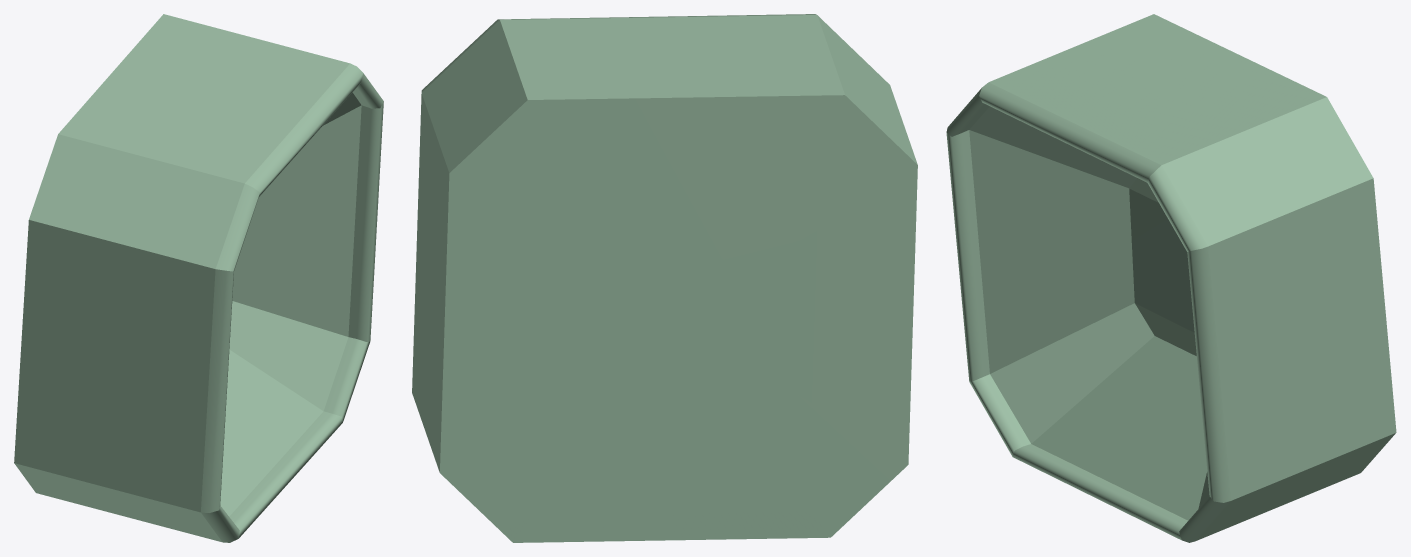
Rendered from BR3_8shapes_Square_Classic_Metal.001 2.glb.
3 renders of one model, left to right at view 1: azimuth 30°, elevation 25°; view 2: azimuth 150°, elevation 25°; view 3: azimuth 270°, elevation 25°, orthographic. The views are drawn at different scales.
Parts seen in each view (by area): view 1: BR3_8shapes_Square_Classic_Metal.001; view 2: BR3_8shapes_Square_Classic_Metal.001; view 3: BR3_8shapes_Square_Classic_Metal.001.
Part boxes in pixels (x1,y1,x2,y2): BR3_8shapes_Square_Classic_Metal.001: (14, 14, 383, 542); BR3_8shapes_Square_Classic_Metal.001: (412, 14, 917, 542); BR3_8shapes_Square_Classic_Metal.001: (946, 14, 1396, 542).
Bounding box in the file's own units: 0.521 × 0.5025 × 0.5066.
